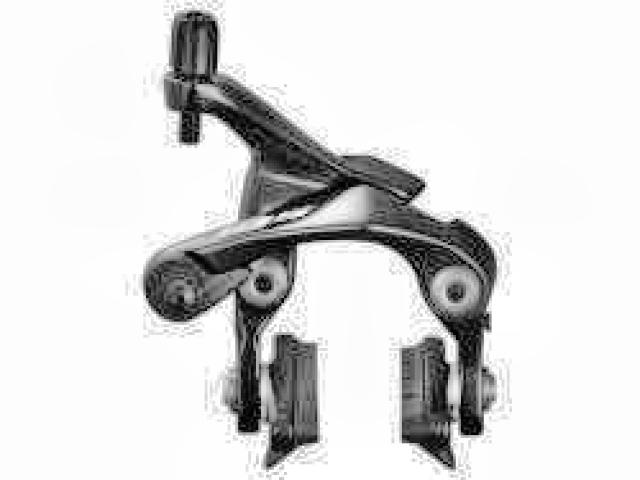rim_brake: (136, 10, 500, 468)
